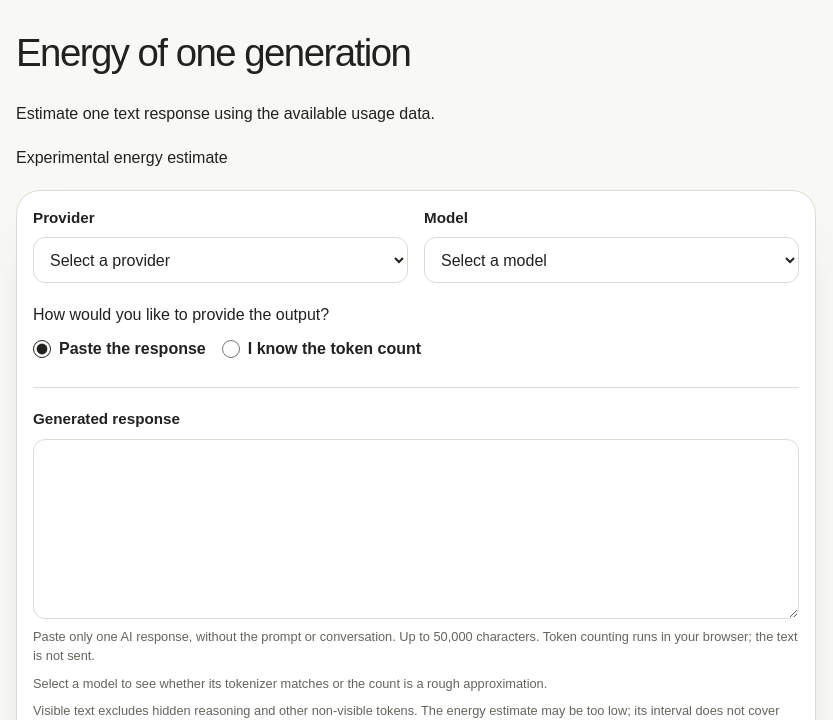
Test: Advanced energy › rejects invalid pasted text  without counting or sending
Select "Provider A" in the dropdown labelled "Provider" at {"x": 220, "y": 260}, box [33, 237, 408, 283]
Select "model-a" in the dropdown labelled "Model" at {"x": 612, "y": 260}, box [424, 237, 799, 283]
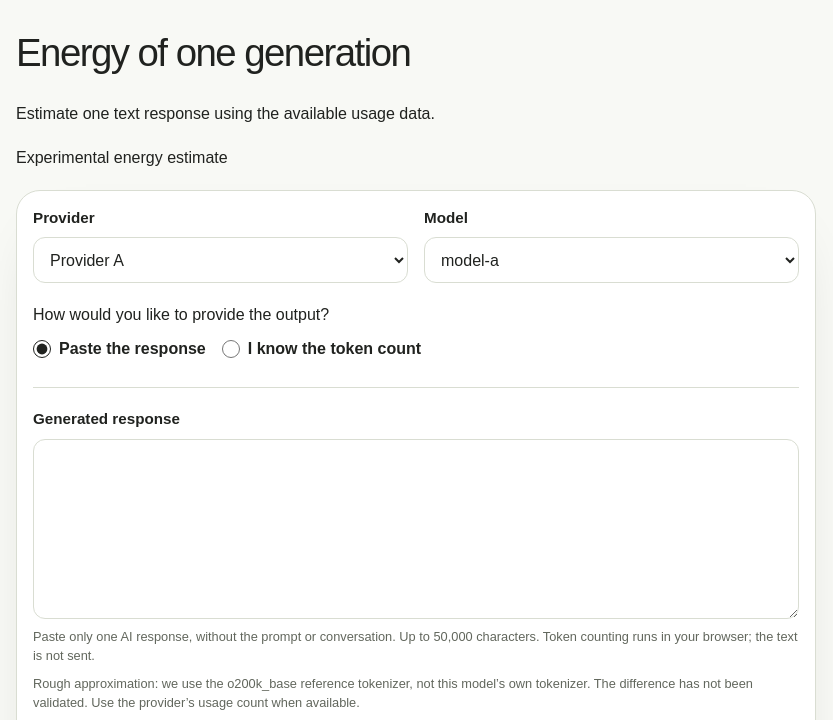
Click the radio button labelled "I know the token count".
click(231, 349)  # box [222, 340, 240, 358]
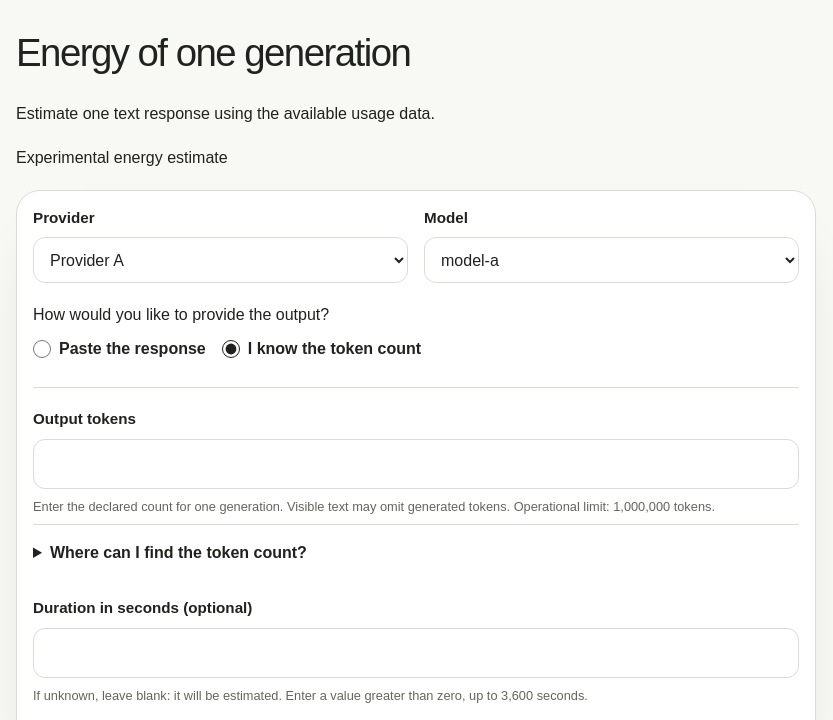
Type "500" into the field labelled "Output tokens".
click(416, 464); type("500")  # box [33, 439, 799, 489]
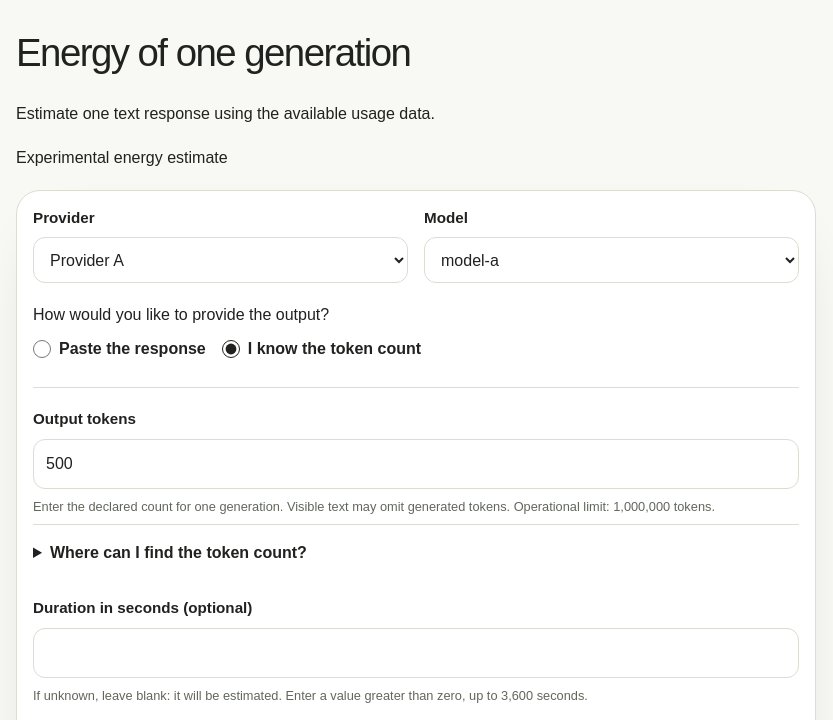
Click the radio button labelled "Paste the response".
click(42, 349)  # box [33, 340, 51, 358]
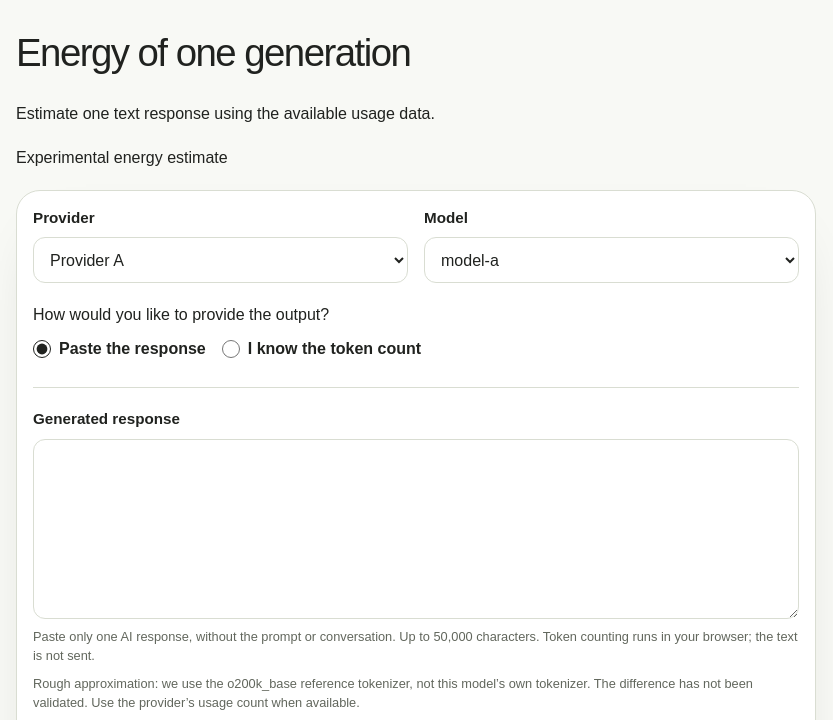
Clear the text box labelled "Generated response" at {"x": 416, "y": 529}, box [33, 439, 799, 619]
(page scrolled)
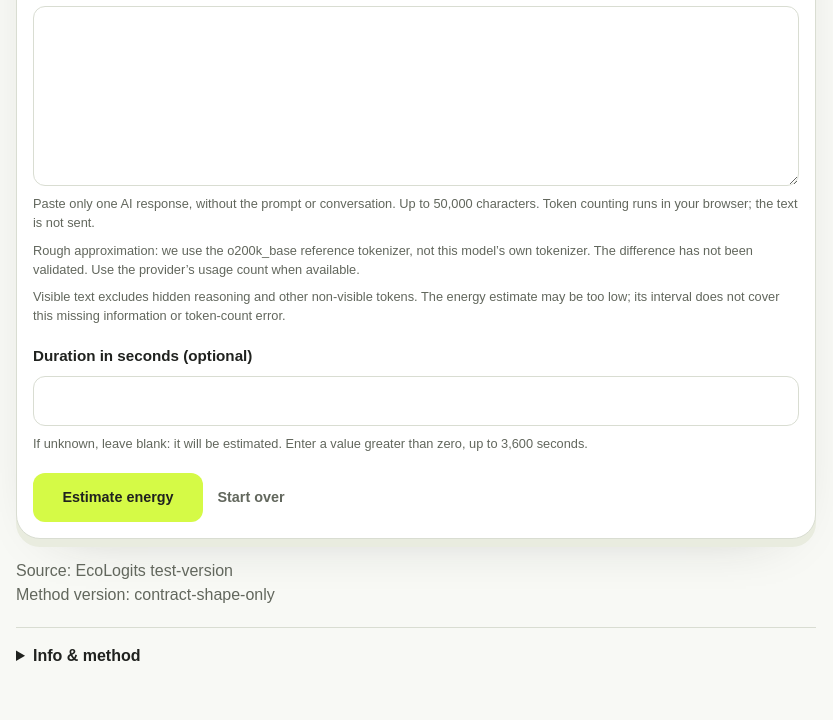
Click the button "Estimate energy".
click(118, 498)  # box [33, 473, 203, 522]
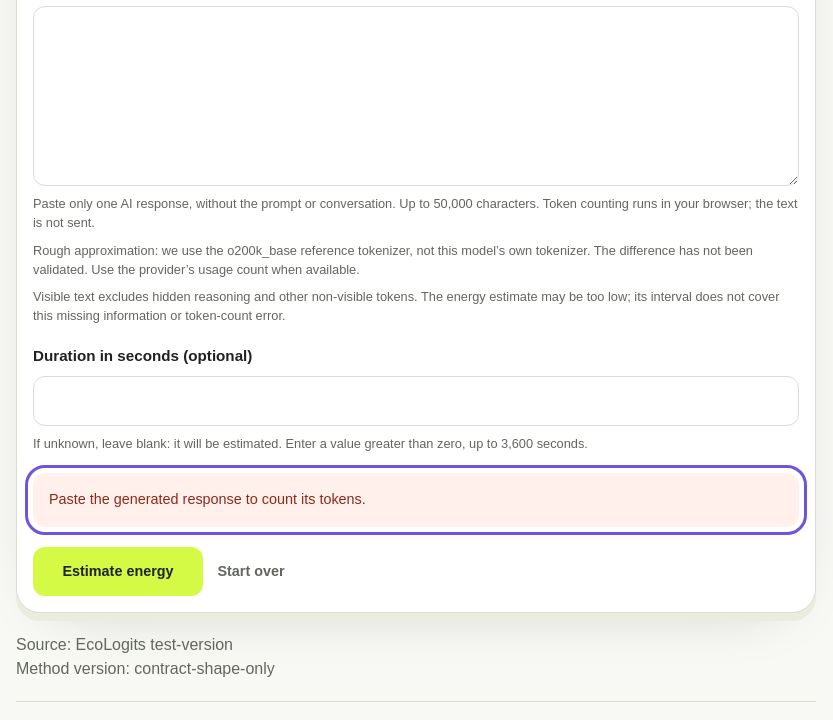
Check: the message "Paste the generated response to count its tokens." is shown, box [33, 473, 799, 527]
